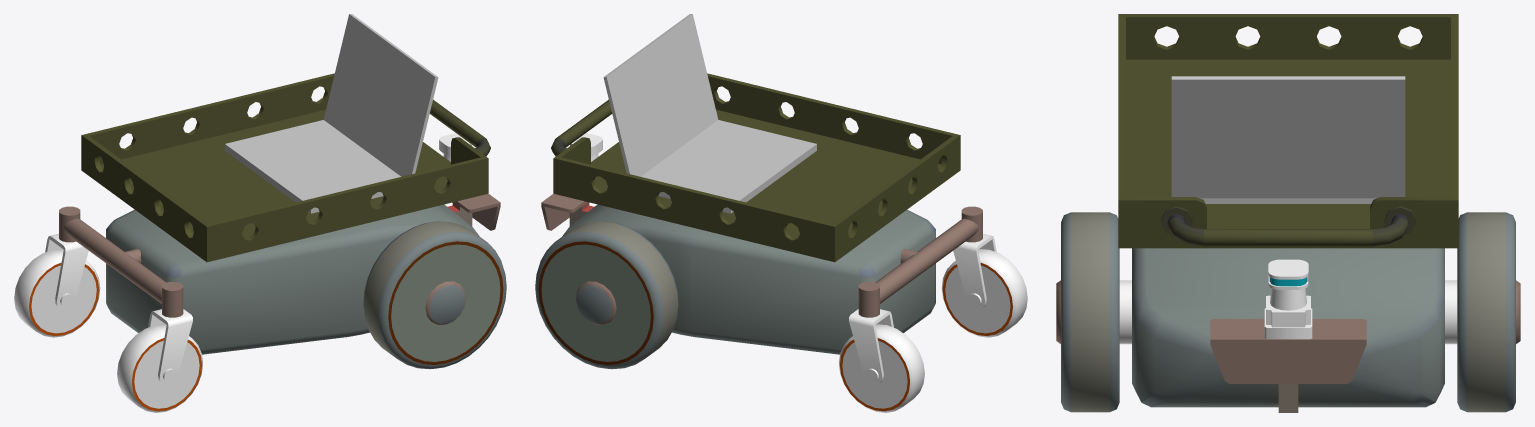
File: shopbot2.dae
3 views of the same model, side by side, from view 1: azimuth 30°, elevation 25°; view 2: azimuth 150°, elevation 25°; view 3: azimuth 270°, elevation 25° (orthographic). The views are drawn at different scales.
Parts seen in each view (by area): view 1: tray, robotBody, laptop, wheel_BL, wheel_FR, wheel_FL, wheelHolder_L, wheelHolder_R; view 2: tray, robotBody, laptop, wheel_BR, wheel_FL, wheel_FR, wheelHolder_R, wheelHolder_L; view 3: tray, robotBody, laptop, wheel_BL, wheel_BR, scannerEye, axle_BL, axle_BR.
Boxes of the visible parts, <box> form: tray: <box>81,73,490,262</box>; robotBody: <box>59,193,500,354</box>; laptop: <box>225,14,438,213</box>; wheel_BL: <box>363,221,506,369</box>; wheel_FR: <box>14,249,100,337</box>; wheel_FL: <box>117,324,202,412</box>; wheelHolder_L: <box>148,309,192,385</box>; wheelHolder_R: <box>45,234,88,309</box>; tray: <box>551,73,960,262</box>; robotBody: <box>541,193,982,354</box>; laptop: <box>603,14,816,213</box>; wheel_BR: <box>535,221,678,369</box>; wheel_FL: <box>941,249,1027,337</box>; wheel_FR: <box>839,324,924,412</box>; wheelHolder_R: <box>849,309,893,385</box>; wheelHolder_L: <box>953,234,996,309</box>; tray: <box>1118,14,1458,248</box>; robotBody: <box>1132,248,1444,412</box>; laptop: <box>1171,76,1405,203</box>; wheel_BL: <box>1056,212,1119,412</box>; wheel_BR: <box>1457,212,1520,412</box>; scannerEye: <box>1264,259,1312,339</box>; axle_BL: <box>1119,280,1131,344</box>; axle_BR: <box>1445,280,1457,344</box>.
Bounding box in the file's own units: 0.8144 × 0.4964 × 0.6029.
